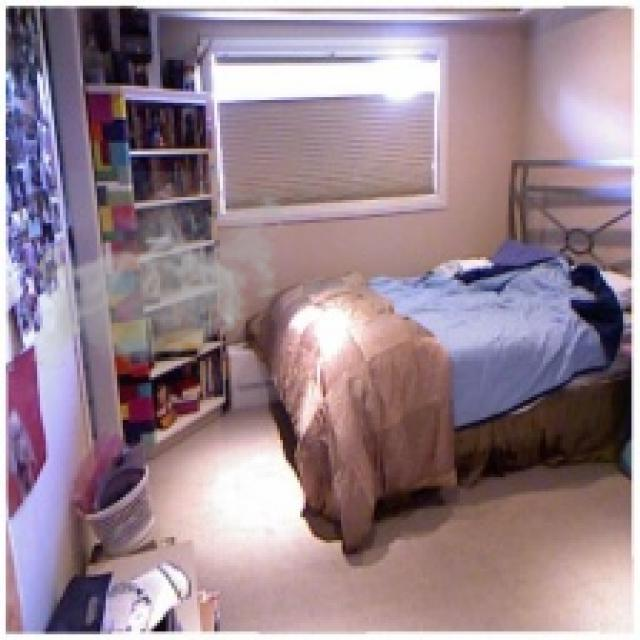Smoke: (32, 172, 294, 378)
